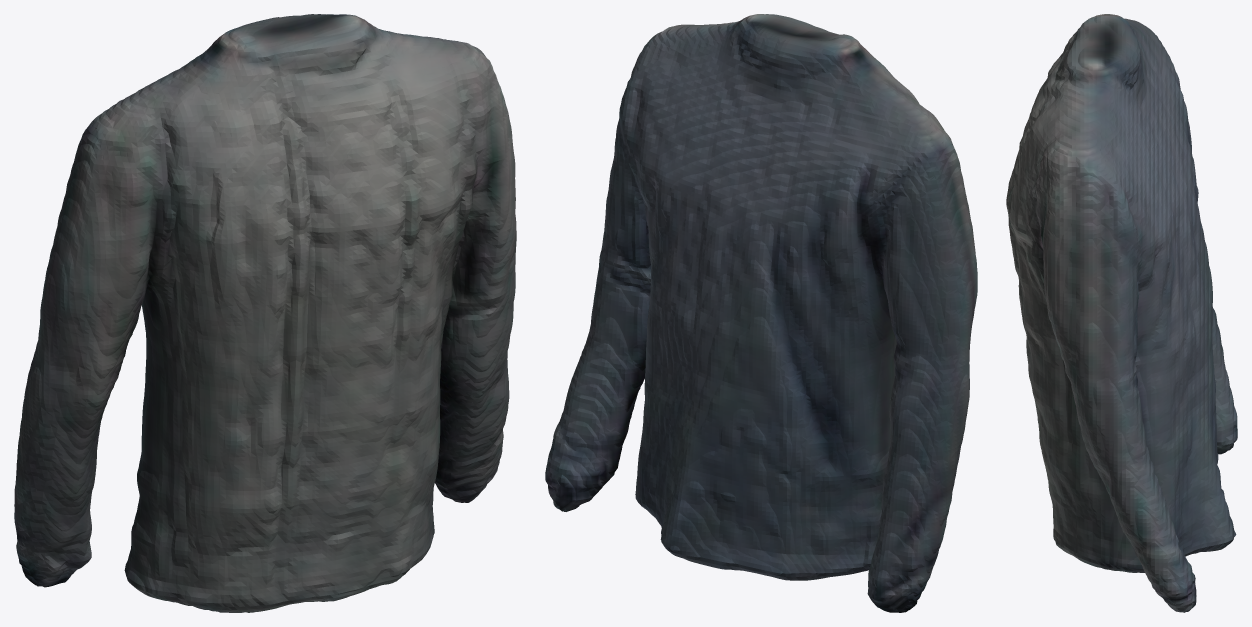
Rendered from 46ef8da9-1825-4a32-a8a9-904ccc02df6b.glb.
The picture shows the model from 3 angles, left to right: view 1: azimuth 30°, elevation 25°; view 2: azimuth 150°, elevation 25°; view 3: azimuth 270°, elevation 25°; orthographic projection. The views are drawn at different scales.
Parts seen in each view (by area): view 1: world; view 2: world; view 3: world.
Boxes of the visible parts, left/top/right/bottom form: world: left=14, top=14, right=516, bottom=612; world: left=545, top=14, right=977, bottom=612; world: left=1006, top=14, right=1237, bottom=612.
Bounding box in the file's own units: 0.7608 × 0.8842 × 0.38.
